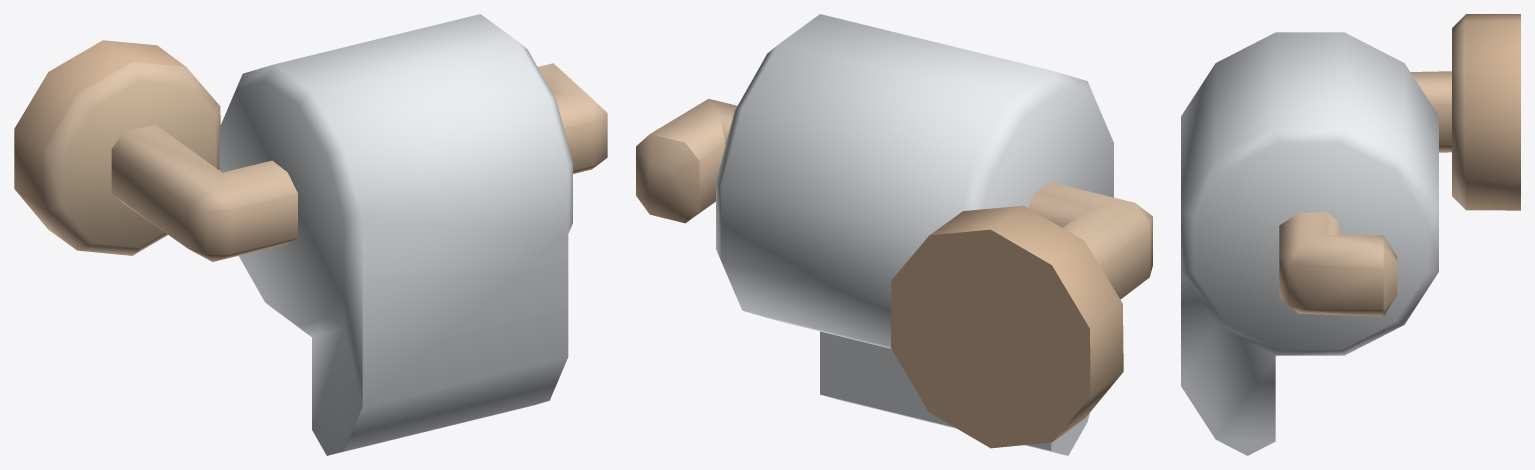
File: bath-roll.glb
3 views of the same model, side by side, from view 1: azimuth 30°, elevation 25°; view 2: azimuth 150°, elevation 25°; view 3: azimuth 270°, elevation 25° (orthographic). The views are drawn at different scales.
Parts seen in each view (by area): view 1: toilet_roll_holder; view 2: toilet_roll_holder; view 3: toilet_roll_holder.
Part boxes in pixels (x1=…): toilet_roll_holder: x1=14, y1=14, x2=607, y2=455; toilet_roll_holder: x1=636, y1=14, x2=1152, y2=455; toilet_roll_holder: x1=1181, y1=14, x2=1520, y2=455.
Size of the model in its own units: 0.6055 by 0.4284 by 0.4.
Materials: 1 (1 with a texture image).
